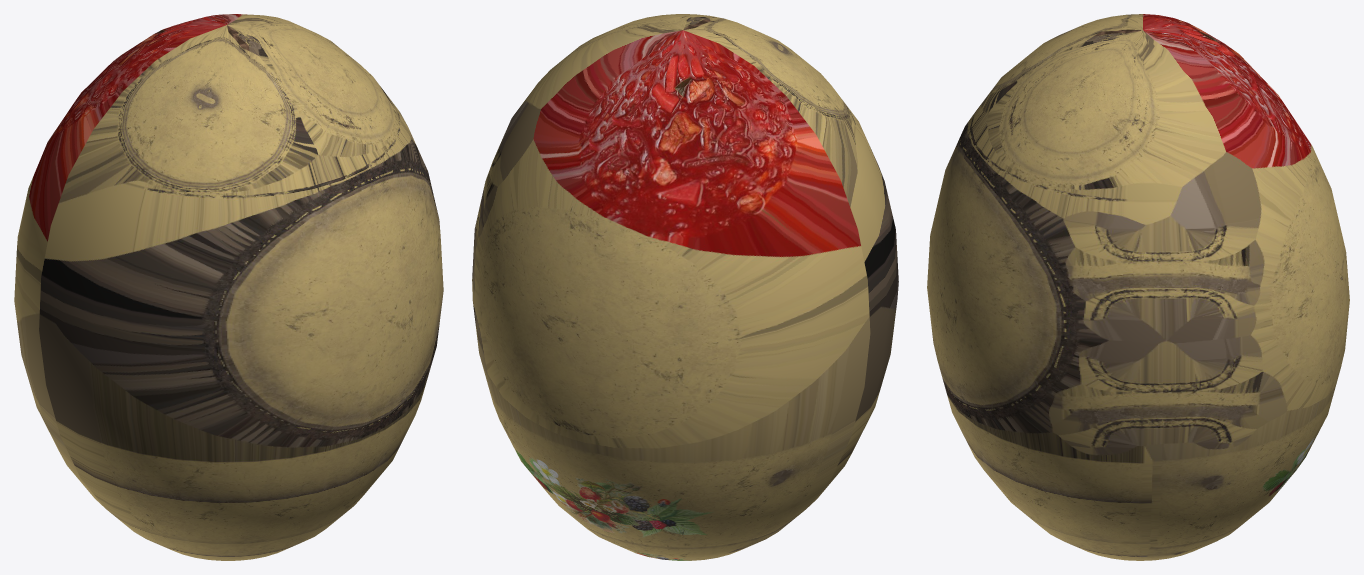
Rendered from Egg.fbx.
3 views of the same model, side by side, from view 1: azimuth 30°, elevation 25°; view 2: azimuth 150°, elevation 25°; view 3: azimuth 270°, elevation 25° (orthographic).
Visible parts, largest first — view 1: Sphere; view 2: Sphere; view 3: Sphere.
Part boxes in pixels (<box>): Sphere: <box>14,14,443,560</box>; Sphere: <box>472,14,898,560</box>; Sphere: <box>927,14,1349,560</box>.
Bounding box in the file's own units: 21.49 × 28.27 × 21.1.
